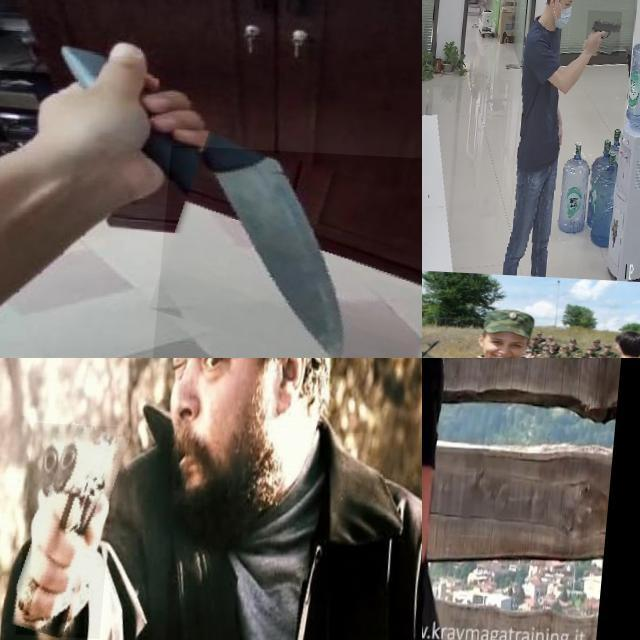-: (160, 143, 422, 358), (422, 358, 467, 445)
gun-knife-thesis - v11 Yolov5 augmented: (24, 420, 123, 636), (586, 8, 624, 54)
